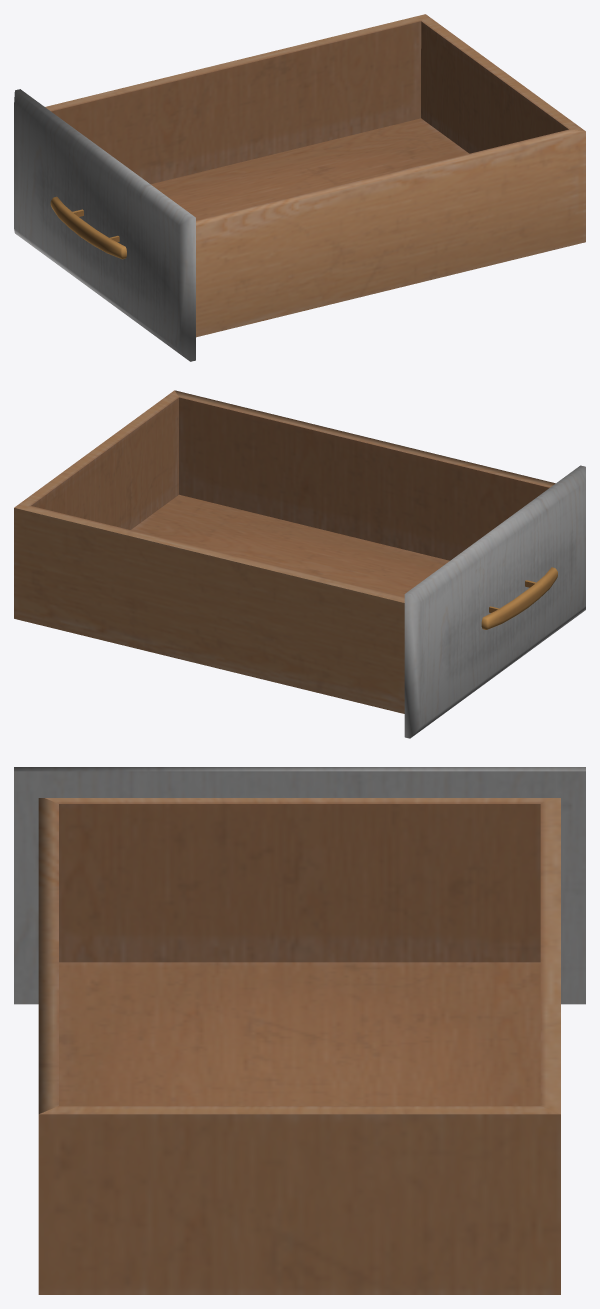
File: SM_KitchenSet_A2_Cabinet_A1.fbx
3 views of the same model, one above another, from view 1: azimuth 30°, elevation 25°; view 2: azimuth 150°, elevation 25°; view 3: azimuth 270°, elevation 25° (orthographic). The views are drawn at different scales.
Parts seen in each view (by area): view 1: SM_KitchenSet_A2_Cabinet_A1; view 2: SM_KitchenSet_A2_Cabinet_A1; view 3: SM_KitchenSet_A2_Cabinet_A1.
Part boxes in pixels (left/top/right/bottom): SM_KitchenSet_A2_Cabinet_A1: left=14, top=14, right=585, bottom=361; SM_KitchenSet_A2_Cabinet_A1: left=14, top=390, right=585, bottom=738; SM_KitchenSet_A2_Cabinet_A1: left=14, top=767, right=585, bottom=1294.
Bounding box in the file's own units: 47.66 × 33.62 × 15.12.
2 materials, 2 textured.
